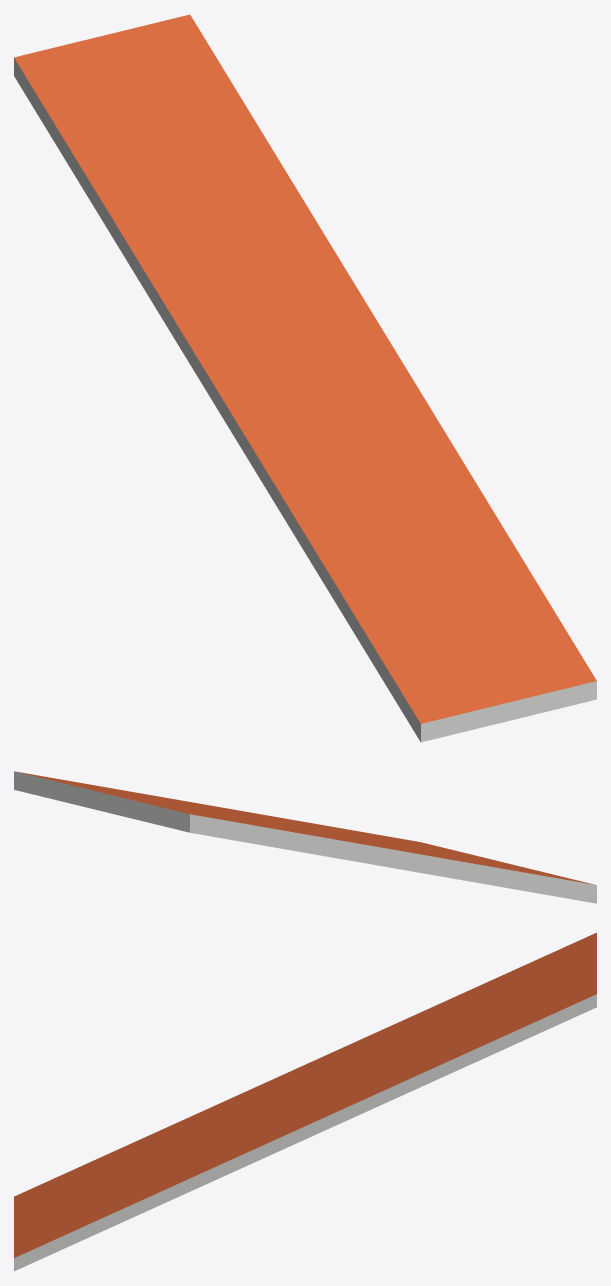
Rendered from telhado_meia_agua_v4_i50_1m.glb.
The picture shows the model from 3 angles, top to bottom: view 1: azimuth 30°, elevation 25°; view 2: azimuth 150°, elevation 25°; view 3: azimuth 270°, elevation 25°; orthographic projection. The views are drawn at different scales.
Visible parts, largest first — view 1: telhado_meia_agua_v4_i50_1m; view 2: telhado_meia_agua_v4_i50_1m; view 3: telhado_meia_agua_v4_i50_1m.
Boxes of the visible parts, bbox=[...] form: telhado_meia_agua_v4_i50_1m: bbox=[14, 14, 596, 742]; telhado_meia_agua_v4_i50_1m: bbox=[14, 771, 596, 903]; telhado_meia_agua_v4_i50_1m: bbox=[14, 932, 596, 1271].
Bounding box in the file's own units: 1 × 2.1 × 4.
